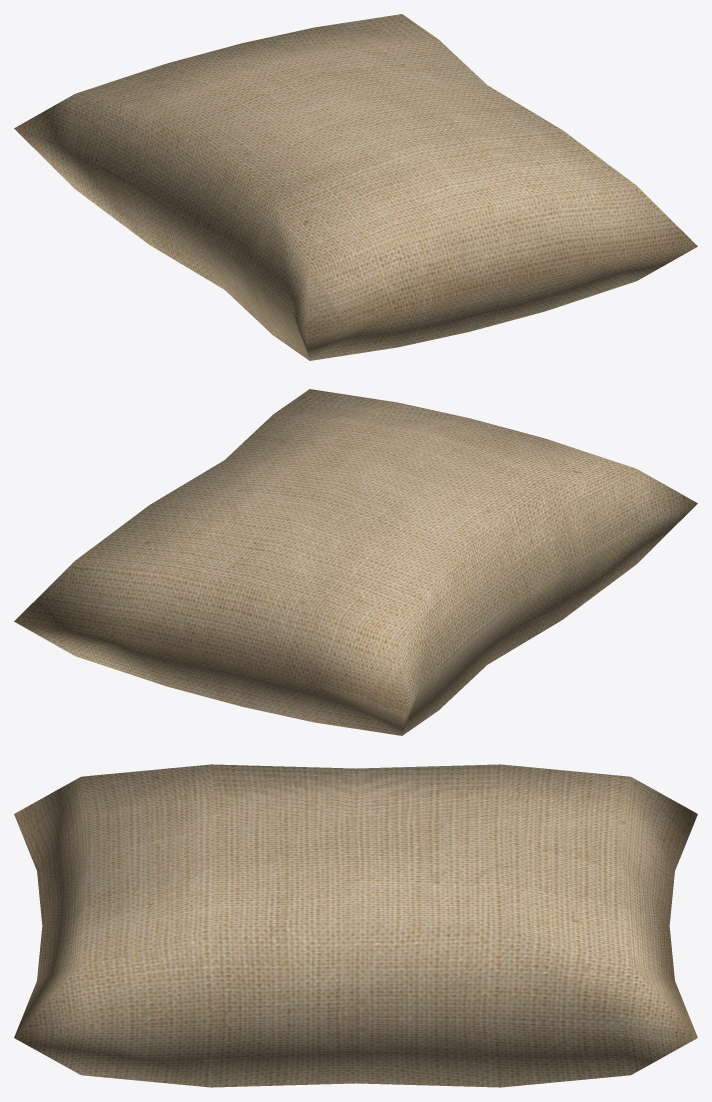
File: sack_01.FBX
3 views of the same model, one above another, from view 1: azimuth 30°, elevation 25°; view 2: azimuth 150°, elevation 25°; view 3: azimuth 270°, elevation 25° (orthographic). The views are drawn at different scales.
Visible parts, largest first — view 1: sack-01; view 2: sack-01; view 3: sack-01.
Boxes of the visible parts, x1,y1,x2,y2 form: sack-01: [14, 14, 697, 360]; sack-01: [14, 389, 697, 735]; sack-01: [14, 764, 697, 1087].
Size of the model in its own units: 30 by 13.17 by 38.71.
